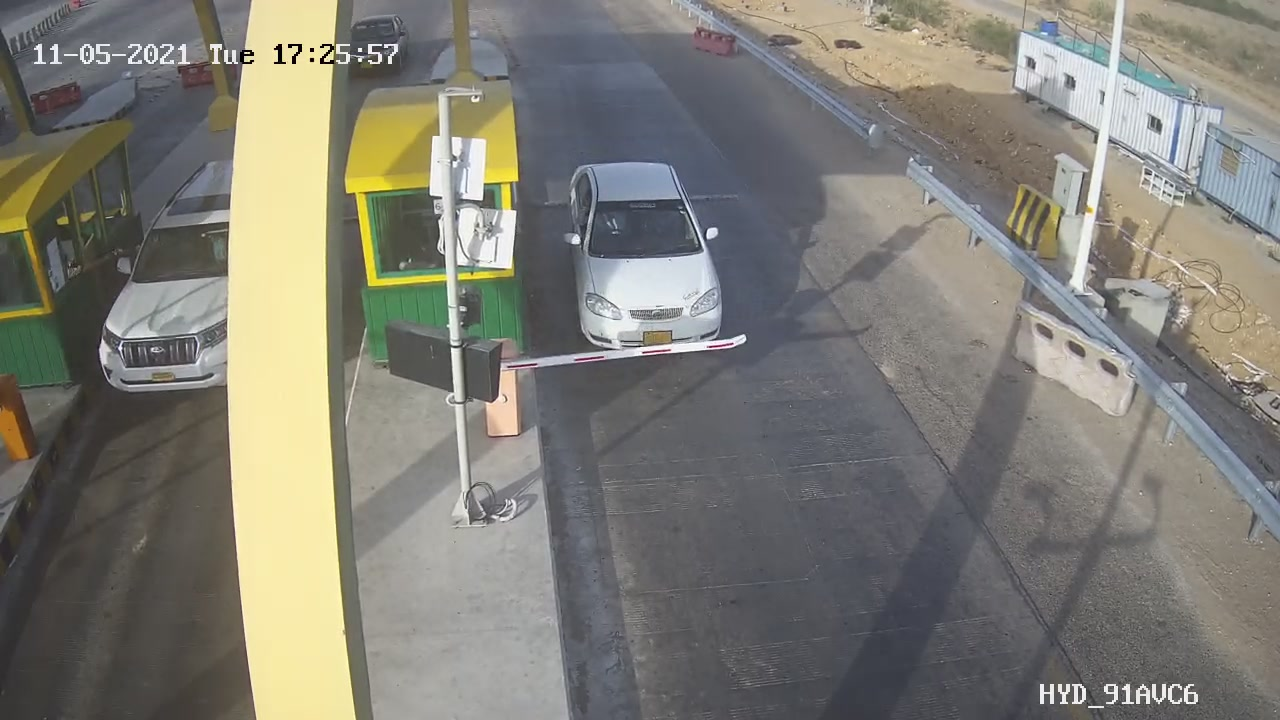F1: (544, 149, 742, 373)
